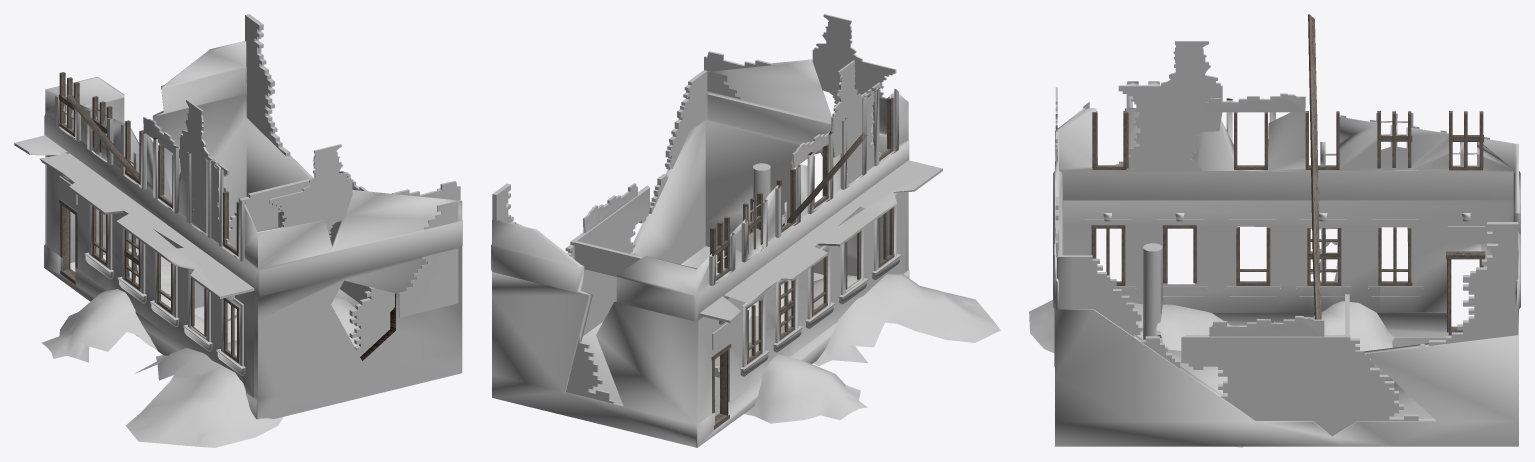
The model's file is greenhouse1_LOD1.fbx.
3 views of the same model, side by side, from view 1: azimuth 30°, elevation 25°; view 2: azimuth 150°, elevation 25°; view 3: azimuth 270°, elevation 25° (orthographic). The views are drawn at different scales.
Parts seen in each view (by area): view 1: greenhouse1_LOD1; view 2: greenhouse1_LOD1; view 3: greenhouse1_LOD1.
Part boxes in pixels (bbox=[...]): greenhouse1_LOD1: bbox=[14, 14, 462, 447]; greenhouse1_LOD1: bbox=[491, 14, 1000, 447]; greenhouse1_LOD1: bbox=[1029, 14, 1520, 447].
Size of the model in its own units: 7.63 by 6.62 by 9.56.
